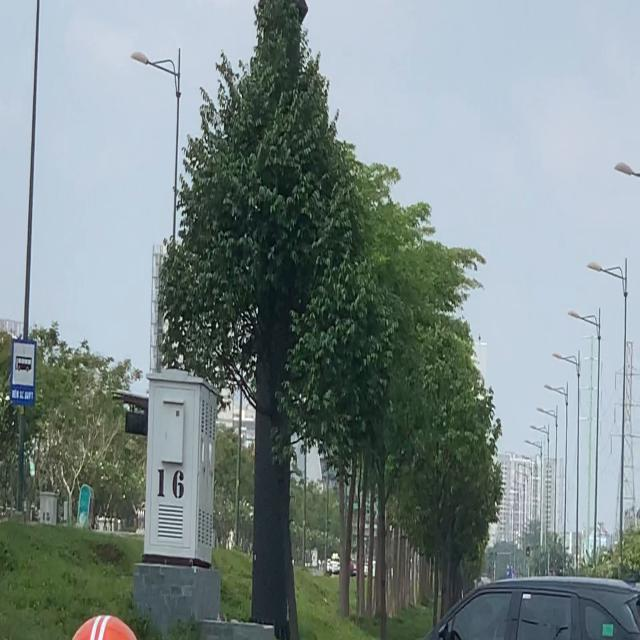Ben xe buyt: (9, 335, 37, 409)
